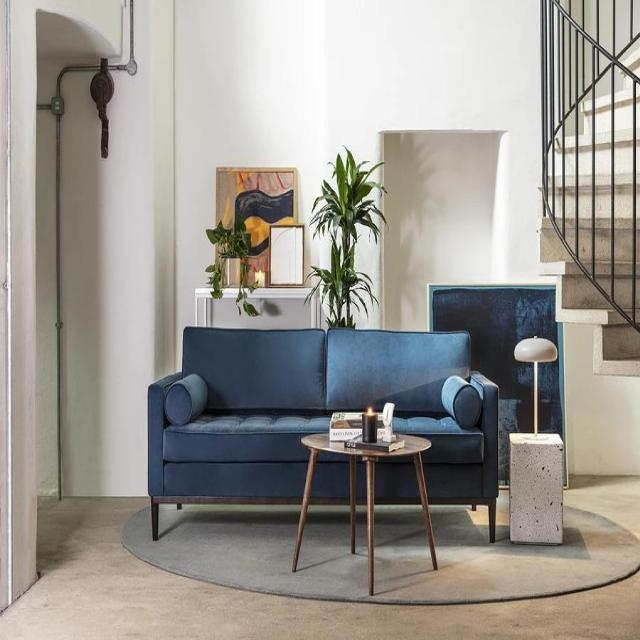sofa: (146, 324, 500, 544)
stool: (271, 415, 455, 602)
